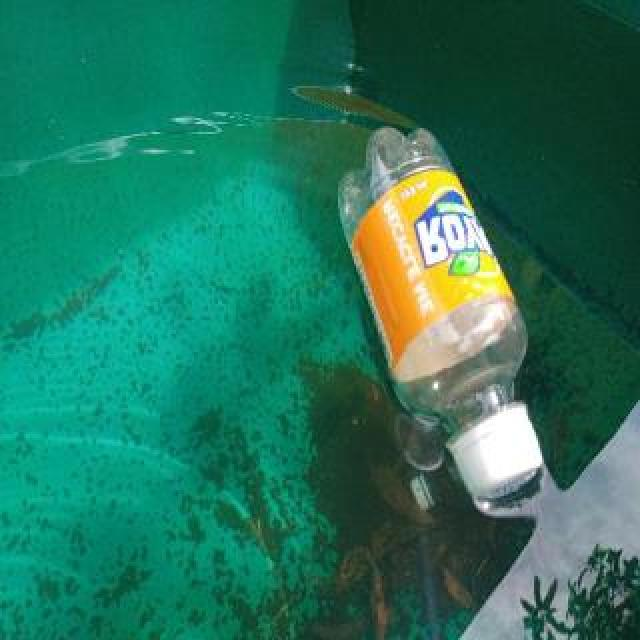Bottle: (328, 119, 554, 504)
